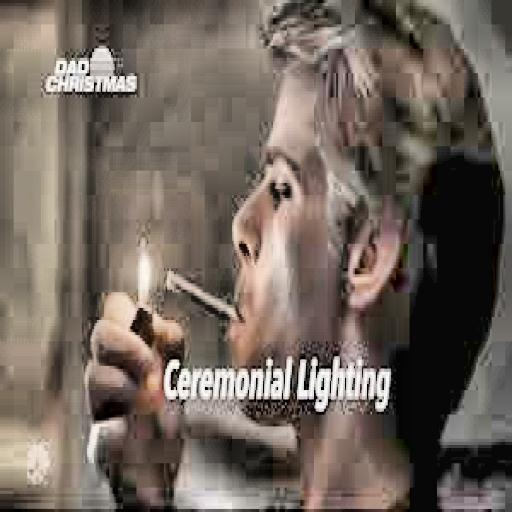fire: (131, 238, 159, 302)
